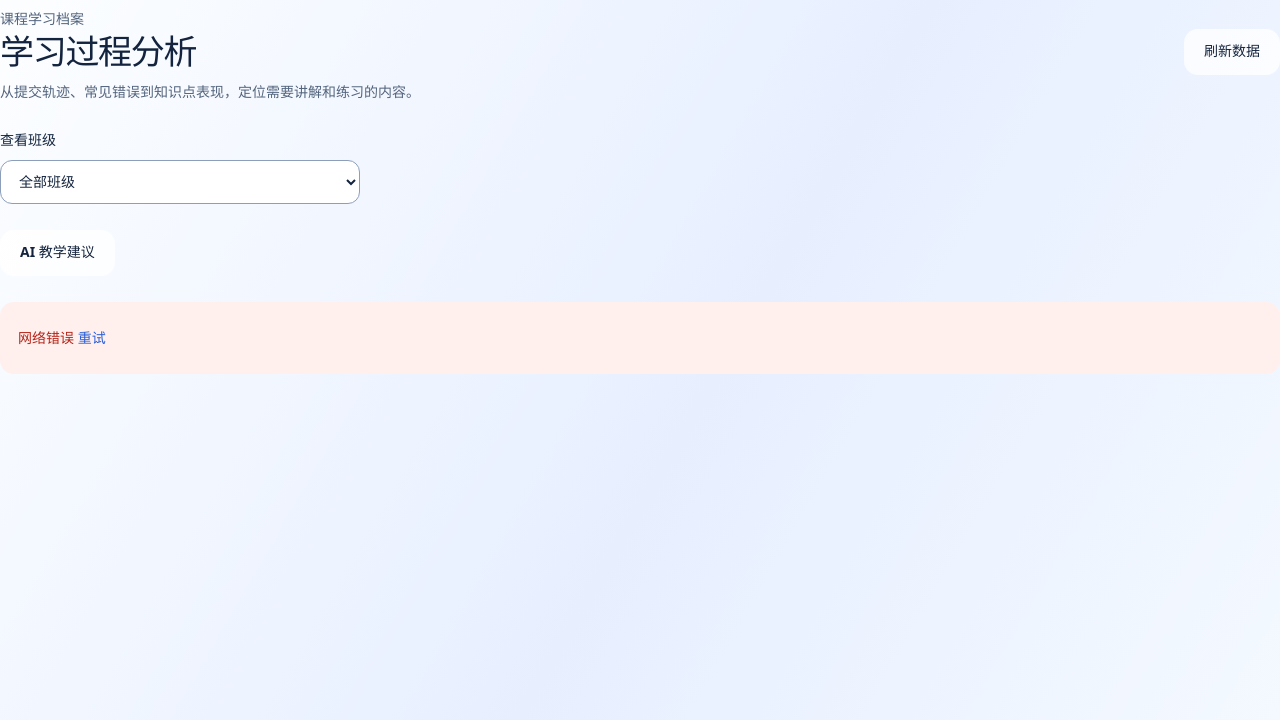
Test: 请求失败不展示旧统计，可重试
Expected: the message "网络错误 重试" is shown, [0,302,1279,374]
Click the button "重试": (92, 338) [78,316,106,360]
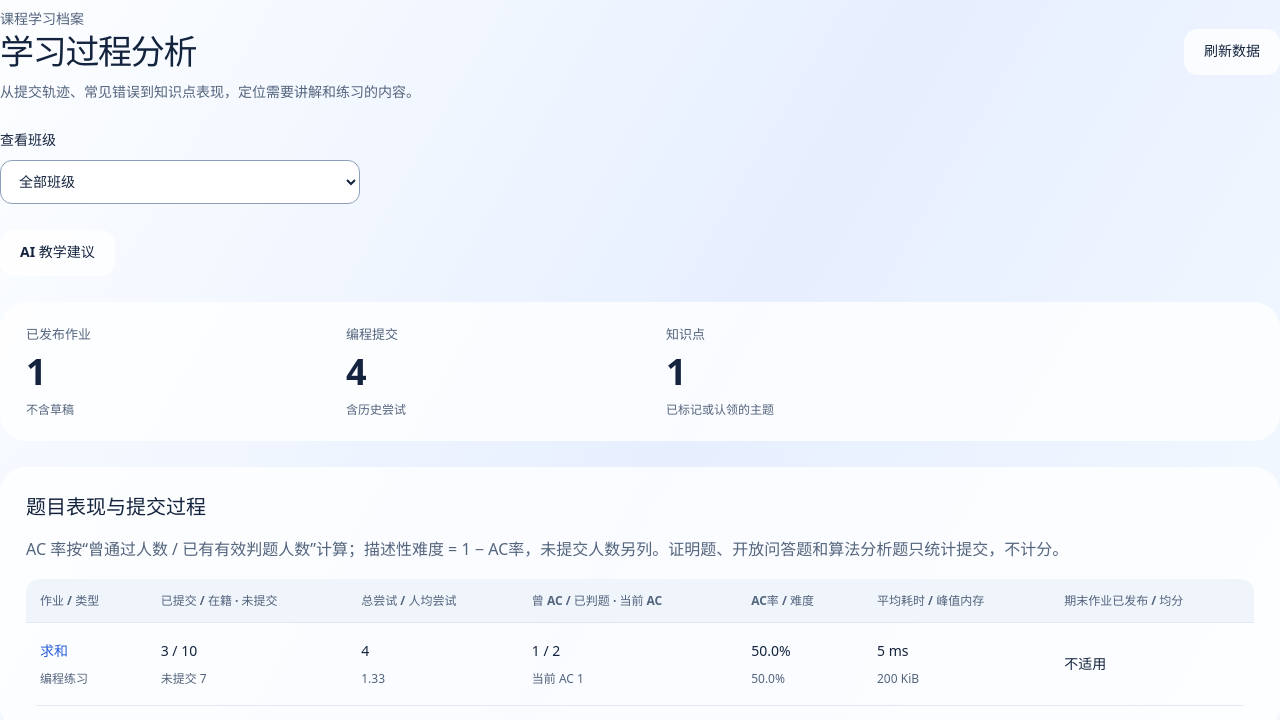
Expected: the table is shown, [26,579,1254,706]
